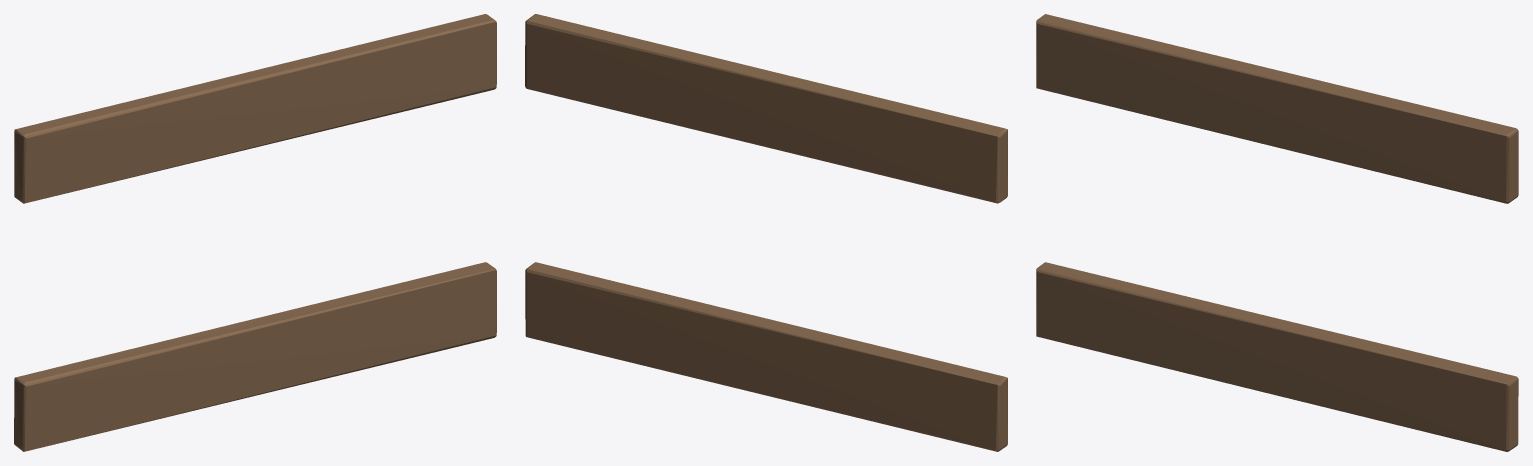
File: SM_Kit_Fence_Ranch_LOD1.glb
3 views of the same model, side by side, from view 1: azimuth 30°, elevation 25°; view 2: azimuth 150°, elevation 25°; view 3: azimuth 330°, elevation 25° (orthographic).
Parts seen in each view (by area): view 1: SM_Kit_Fence_Ranch_LOD1; view 2: SM_Kit_Fence_Ranch_LOD1; view 3: SM_Kit_Fence_Ranch_LOD1.
Boxes of the visible parts, bbox=[...] form: SM_Kit_Fence_Ranch_LOD1: bbox=[14, 14, 496, 451]; SM_Kit_Fence_Ranch_LOD1: bbox=[525, 14, 1007, 451]; SM_Kit_Fence_Ranch_LOD1: bbox=[1036, 14, 1518, 451].
Bounding box in the file's own units: 1 × 0.64 × 0.04.
